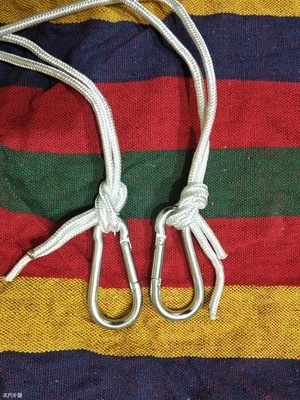9/可回收垃圾/绳子: (1, 1, 228, 322), (1, 34, 143, 329)
